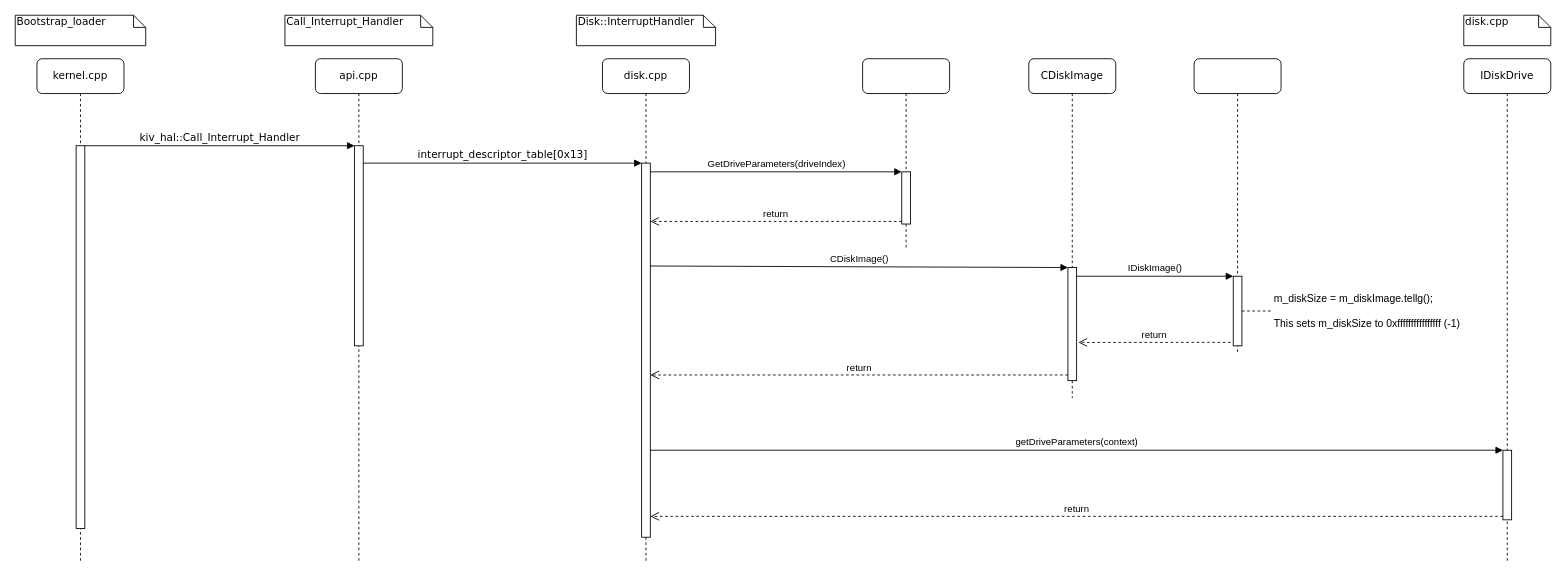
Some shapes in this 1566 by 579 pixel diagram are drawn without their labels. The box of each missing label's shape, as (x1, y1, x2, y2) in pixels:
CMOS: (862, 58, 950, 250)
IDiskImage: (1193, 58, 1281, 355)
